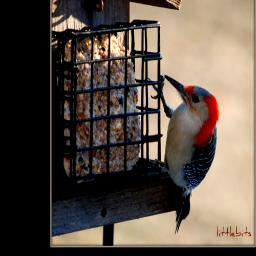Woodpecker: (149, 75, 219, 235)
